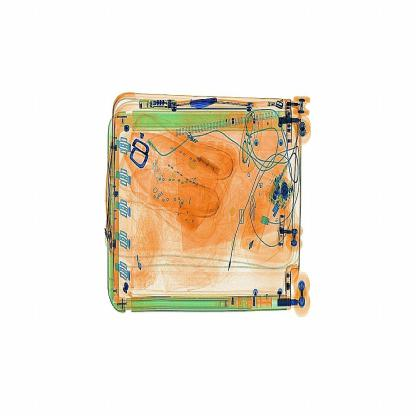knife: (186, 92, 219, 124)
